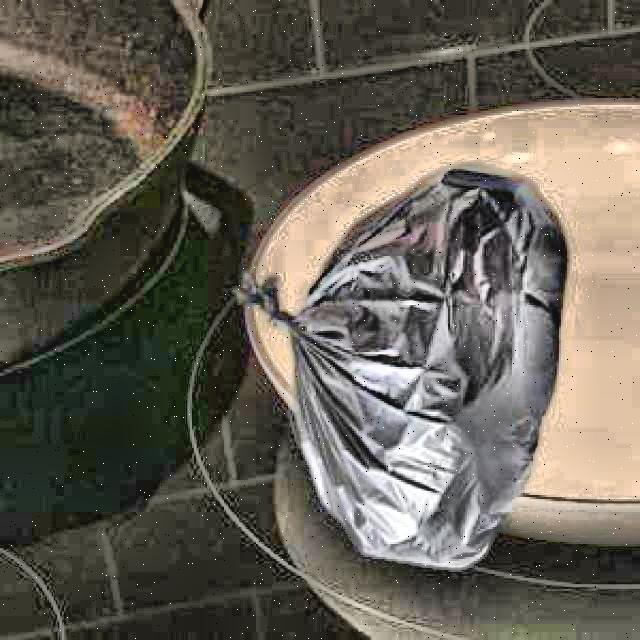Trashbag: (227, 164, 576, 576)
